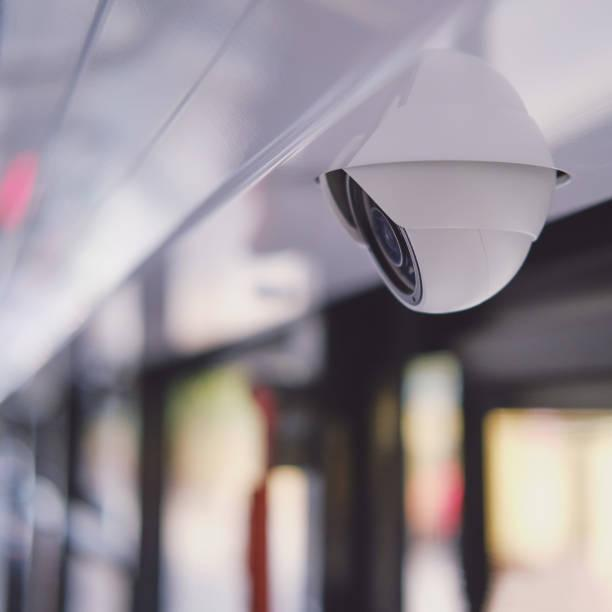camera: (300, 20, 568, 322)
